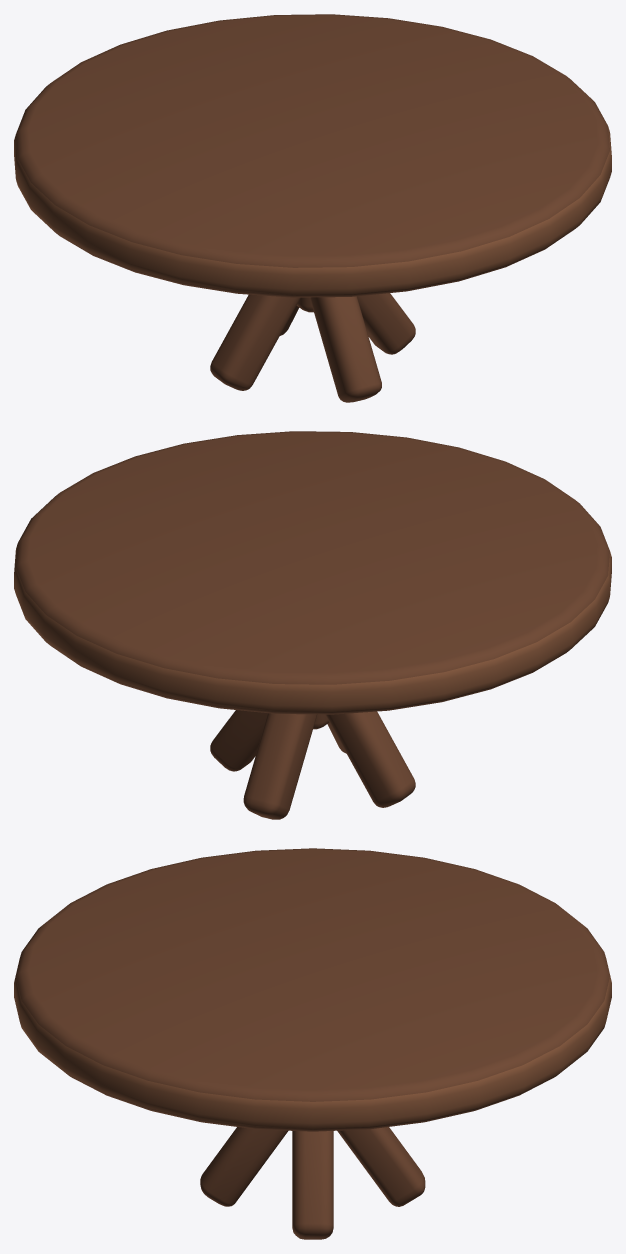
The model's file is Tisch.fbx.
3 renders of one model, top to bottom at view 1: azimuth 30°, elevation 25°; view 2: azimuth 150°, elevation 25°; view 3: azimuth 270°, elevation 25°, orthographic.
Parts seen in each view (by area): view 1: Cylinder; view 2: Cylinder; view 3: Cylinder.
Boxes of the visible parts, x1,y1,x2,y2 form: Cylinder: (14,14,611,402); Cylinder: (14,431,611,819); Cylinder: (14,848,611,1239).
Bounding box in the file's own units: 367 × 158 × 367.
